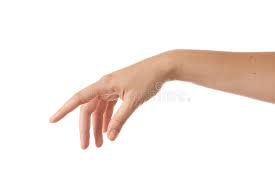hand: (39, 38, 196, 151)
